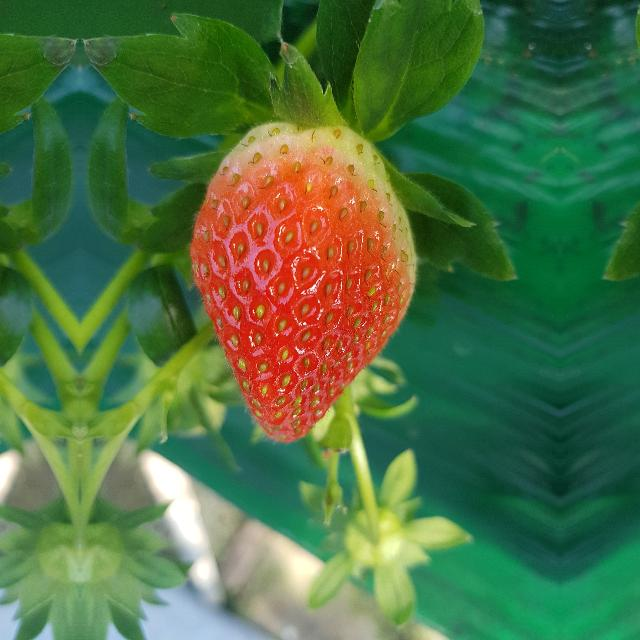Health_100: (188, 121, 418, 442)
